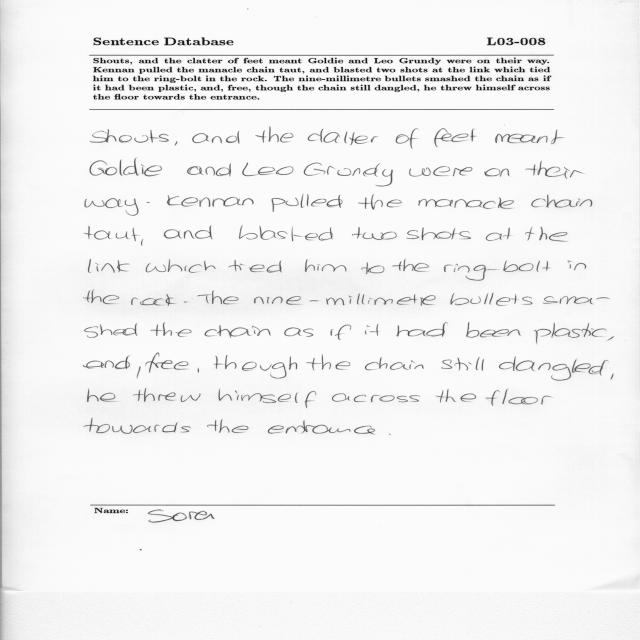word: (499, 356, 608, 381), (254, 294, 436, 306), (304, 163, 393, 187), (444, 261, 550, 281), (214, 355, 297, 379), (219, 389, 317, 408), (84, 418, 191, 434), (534, 323, 606, 345), (239, 226, 333, 241), (90, 159, 162, 177), (272, 195, 343, 212), (418, 197, 514, 209), (451, 292, 533, 306), (486, 389, 552, 406), (308, 129, 378, 145), (90, 129, 169, 143), (268, 421, 351, 434), (525, 161, 583, 179), (167, 195, 254, 207), (146, 259, 216, 273), (85, 198, 139, 216), (495, 130, 564, 144), (133, 389, 201, 402), (467, 322, 521, 338), (145, 353, 188, 373), (205, 325, 271, 338), (407, 228, 472, 241), (434, 128, 476, 147), (86, 226, 139, 241), (532, 195, 593, 208), (332, 394, 420, 403), (396, 322, 448, 337), (365, 357, 424, 370), (306, 354, 350, 371), (85, 324, 138, 338), (409, 166, 472, 177), (229, 260, 282, 273), (242, 163, 294, 176), (358, 195, 402, 210), (525, 227, 568, 242), (164, 226, 213, 239), (192, 131, 239, 144), (256, 127, 294, 143), (441, 357, 484, 371), (84, 356, 130, 369), (88, 259, 130, 273), (207, 419, 249, 433), (352, 227, 397, 240), (151, 323, 192, 337), (436, 389, 477, 403), (187, 164, 231, 177), (197, 291, 239, 304), (131, 294, 176, 306), (543, 296, 609, 304), (84, 290, 120, 304), (305, 260, 346, 272), (392, 259, 429, 272), (396, 128, 418, 149), (88, 389, 116, 402), (486, 228, 511, 241), (331, 325, 351, 340), (285, 327, 314, 337), (362, 262, 385, 274), (484, 168, 510, 177), (354, 426, 375, 435), (568, 261, 586, 271), (365, 324, 378, 336), (137, 367, 141, 378), (607, 337, 614, 341), (611, 374, 614, 380), (175, 141, 178, 146), (141, 239, 143, 246), (198, 369, 199, 373), (147, 202, 150, 203), (184, 302, 187, 303)
